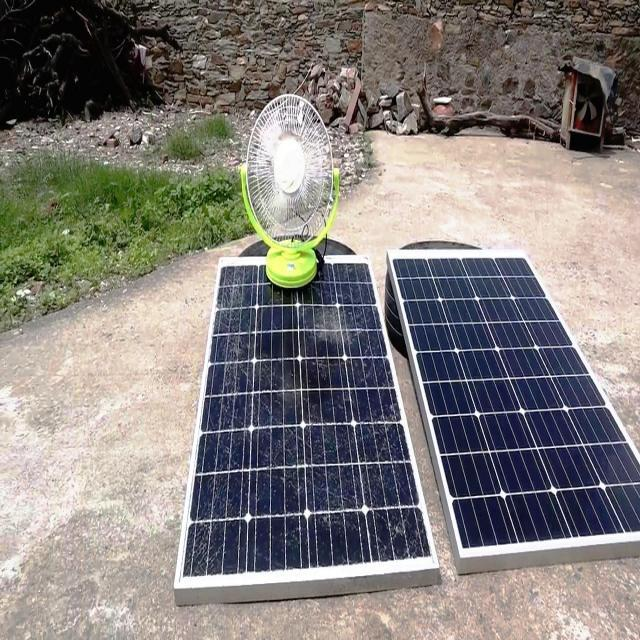faulty: (176, 255, 434, 591), (386, 248, 636, 578)
